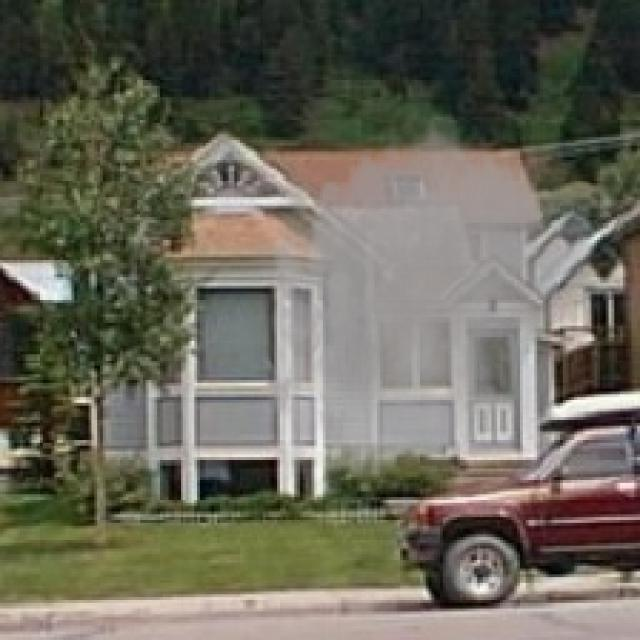Smoke: (245, 102, 606, 512)
